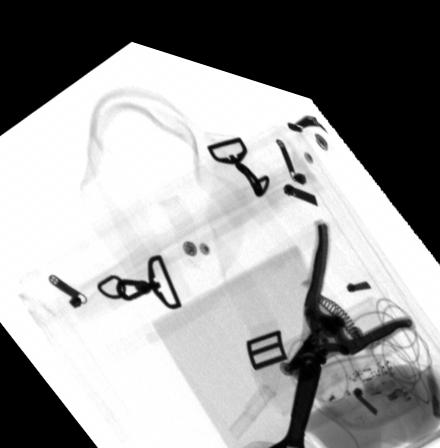Pliers: (283, 199, 414, 367)
Wrench: (264, 333, 323, 448)
